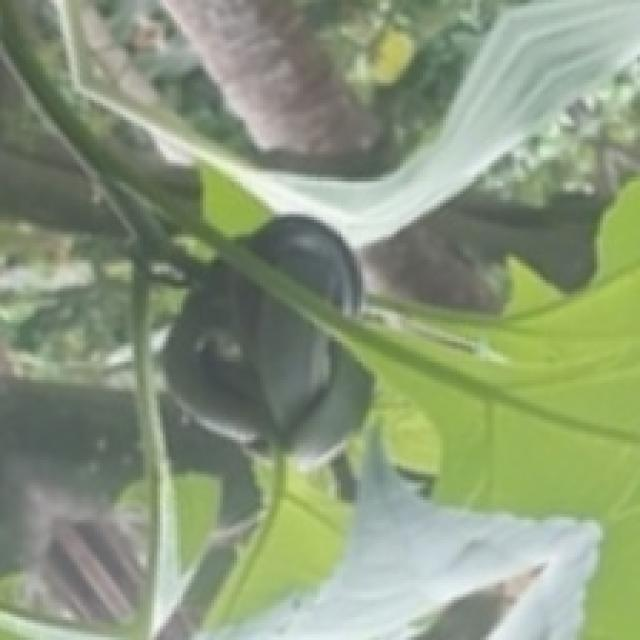red-tailed green ratsnake: (163, 263, 369, 460), (246, 217, 357, 311)
